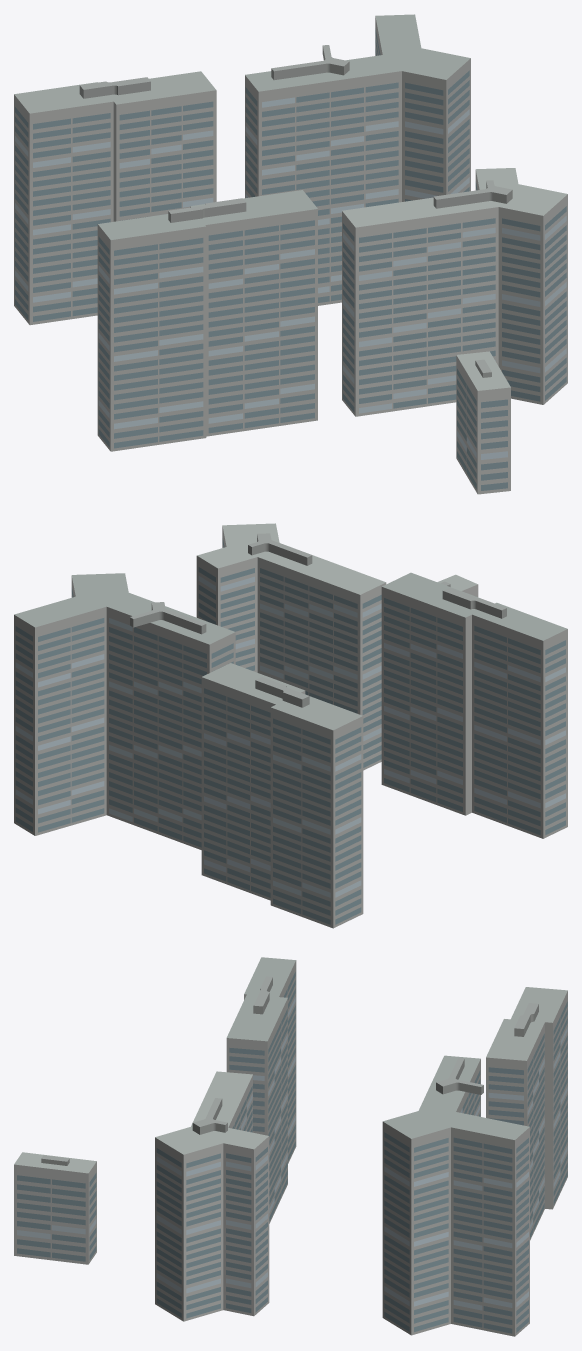
The model's file is apt-a15072002.glb.
The picture shows the model from 3 angles, top to bottom: view 1: azimuth 30°, elevation 25°; view 2: azimuth 150°, elevation 25°; view 3: azimuth 270°, elevation 25°; orthographic projection. The views are drawn at different scales.
Parts seen in each view (by area): view 1: apt-a15072002; view 2: apt-a15072002; view 3: apt-a15072002.
Part boxes in pixels (x1=…): apt-a15072002: x1=14, y1=14, x2=567, y2=494; apt-a15072002: x1=14, y1=523, x2=567, y2=928; apt-a15072002: x1=14, y1=957, x2=567, y2=1336.
Size of the model in its own units: 125 by 62 by 152.
